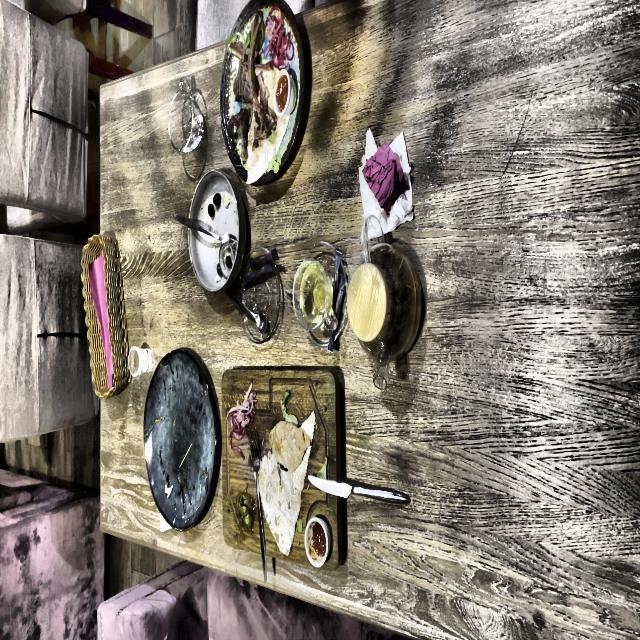empty glass saucer: (237, 248, 281, 343)
empty glass tea cup: (168, 84, 204, 154)
empty plate of greek salad: (187, 170, 248, 294)
empty plate of vegetable salad: (143, 351, 220, 533)
empty shot glass: (127, 345, 154, 378)
full glass cup of tea: (292, 258, 333, 331)
glass teapot: (346, 214, 426, 395)
pile of onions: (228, 384, 260, 462), (263, 6, 295, 72)
the chicken: (268, 420, 312, 474)
